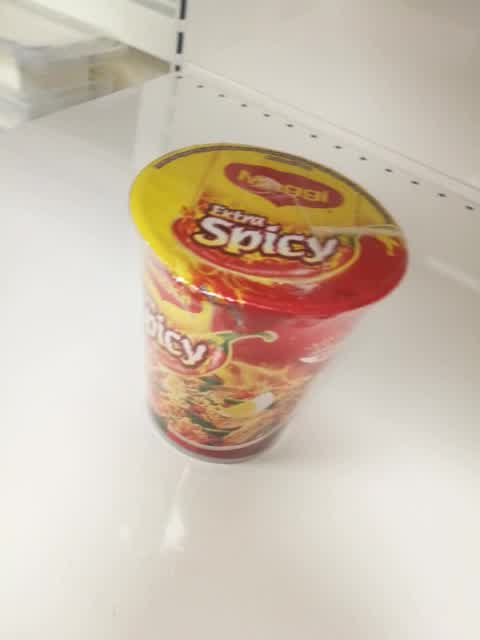maggi: (126, 142, 409, 466)
